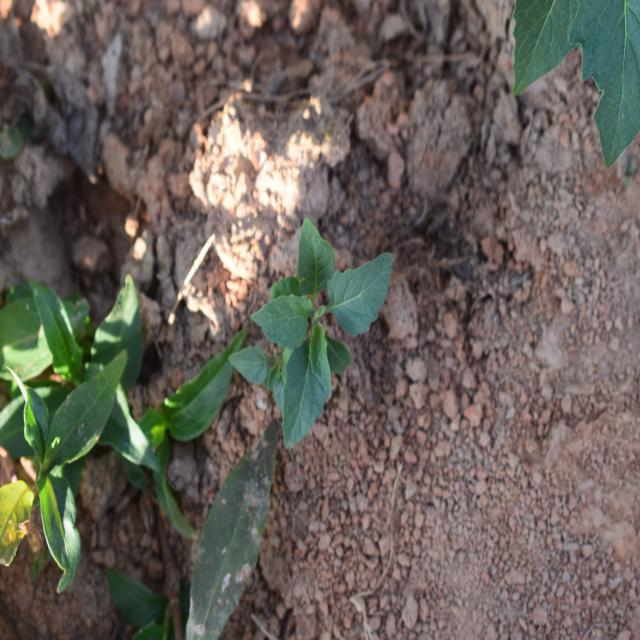Black_nightshade: (254, 192, 383, 442)
